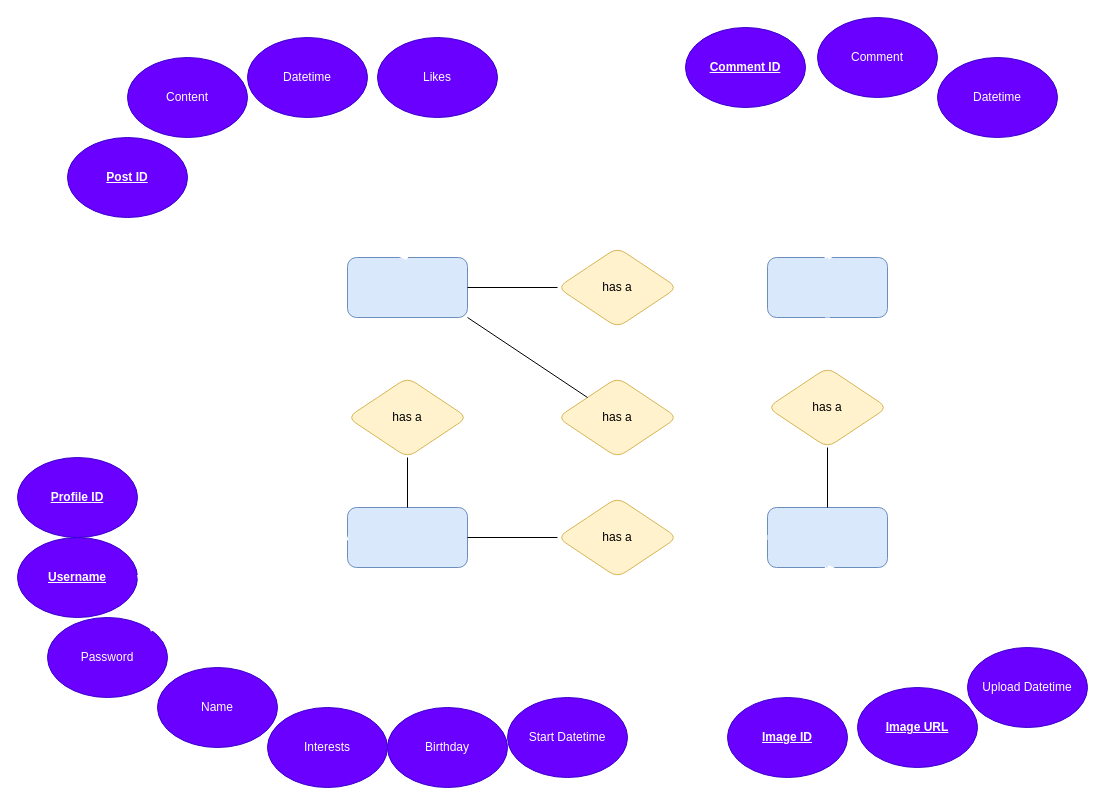
Image size: 1105x805. Some labels were removed from this diagram. The shapes that lost their labels are listed below. From the top down, each one's centre as x and y in pixels, then its label:
point 407,287: Posts
point 827,287: Comments
point 407,537: Profiles
point 827,537: Images
